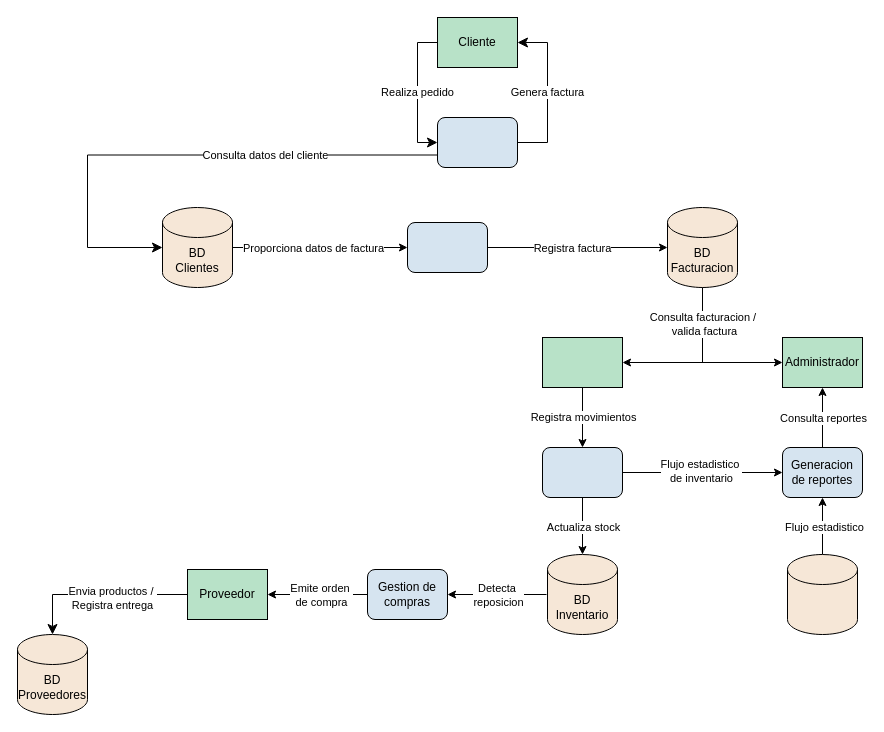
Image size: 884x732. Some labels were removed from this diagram. Each missing label, with the centre of its shape:
BD Reportes: (822,594)
Control de inventario: (582,472)
Empleado: (582,362)
Facturacion: (447,247)
Gestion de ventas: (477,142)
